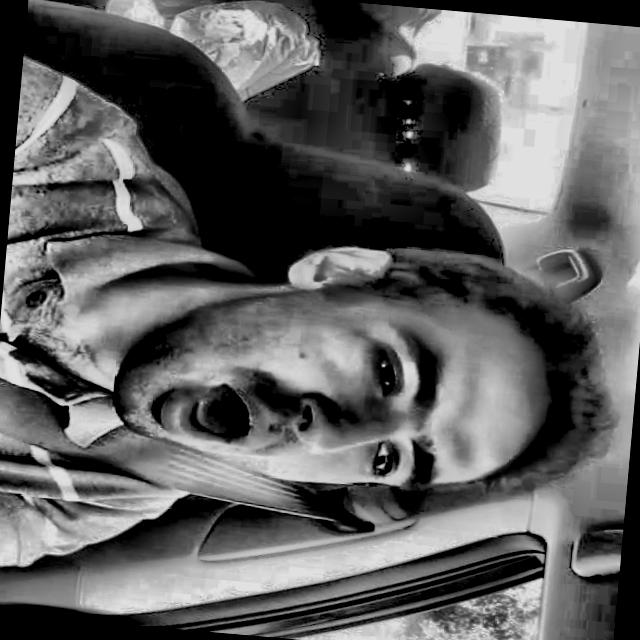open_eyes: (358, 331, 414, 407), (355, 435, 410, 495)
open_mouth: (148, 365, 272, 465)
